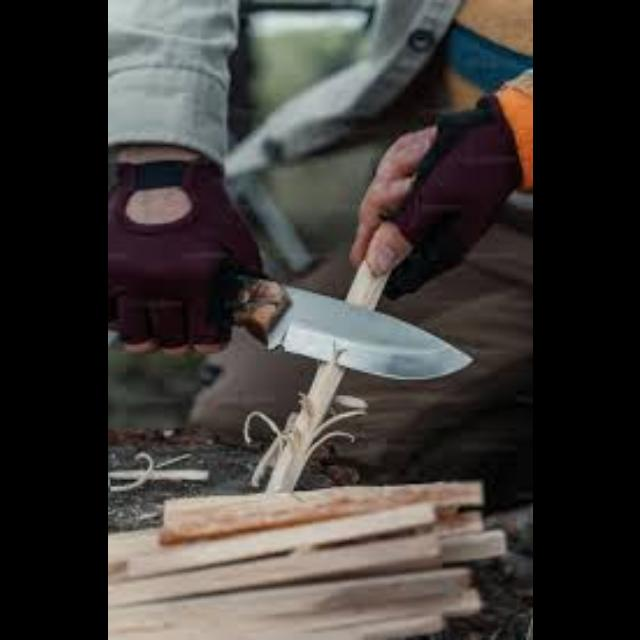Knife: (231, 270, 475, 382)
Person: (108, 6, 532, 418)
Weapon Holding: (111, 178, 263, 346)
